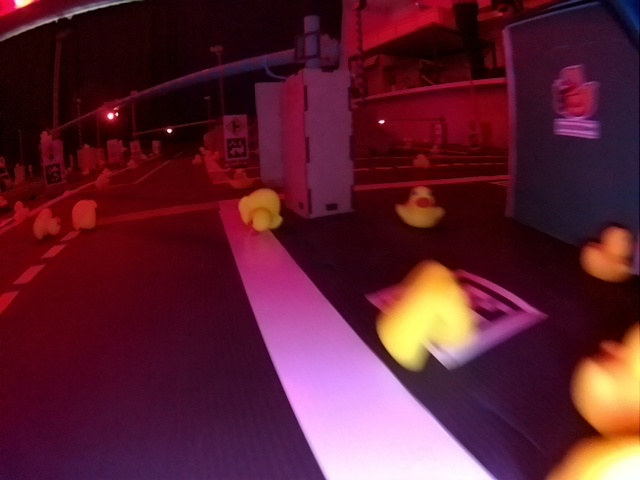Duckie: (377, 261, 467, 366), (238, 187, 285, 232), (394, 184, 441, 224), (71, 199, 98, 230)
QR code: (368, 269, 544, 364)
